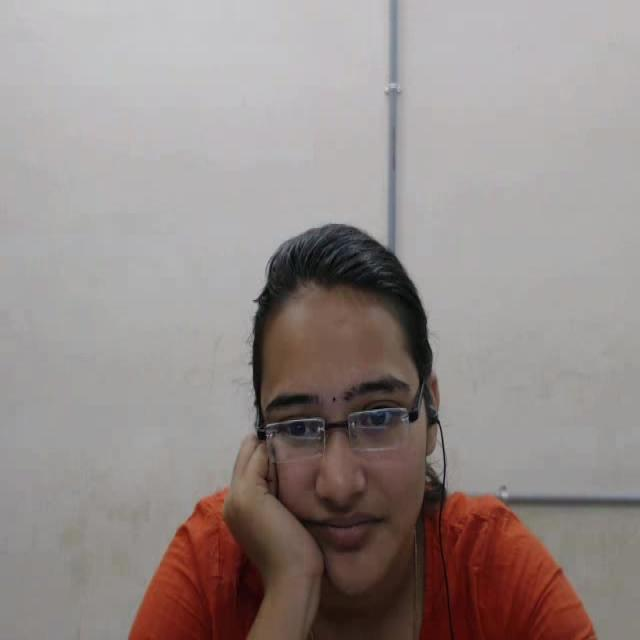Bored: (193, 180, 503, 640)
